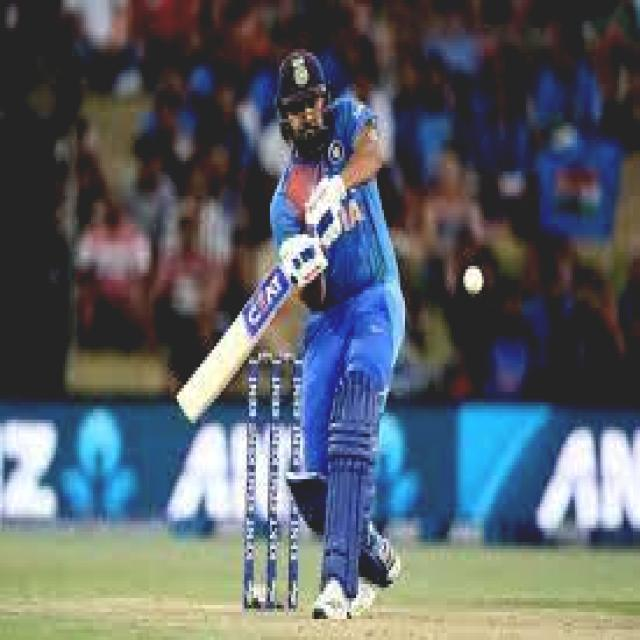toe: (172, 395, 196, 422)
